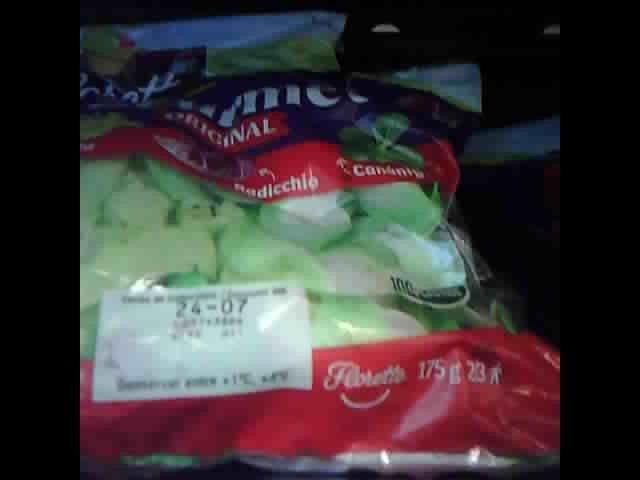florette: (80, 11, 557, 472)
